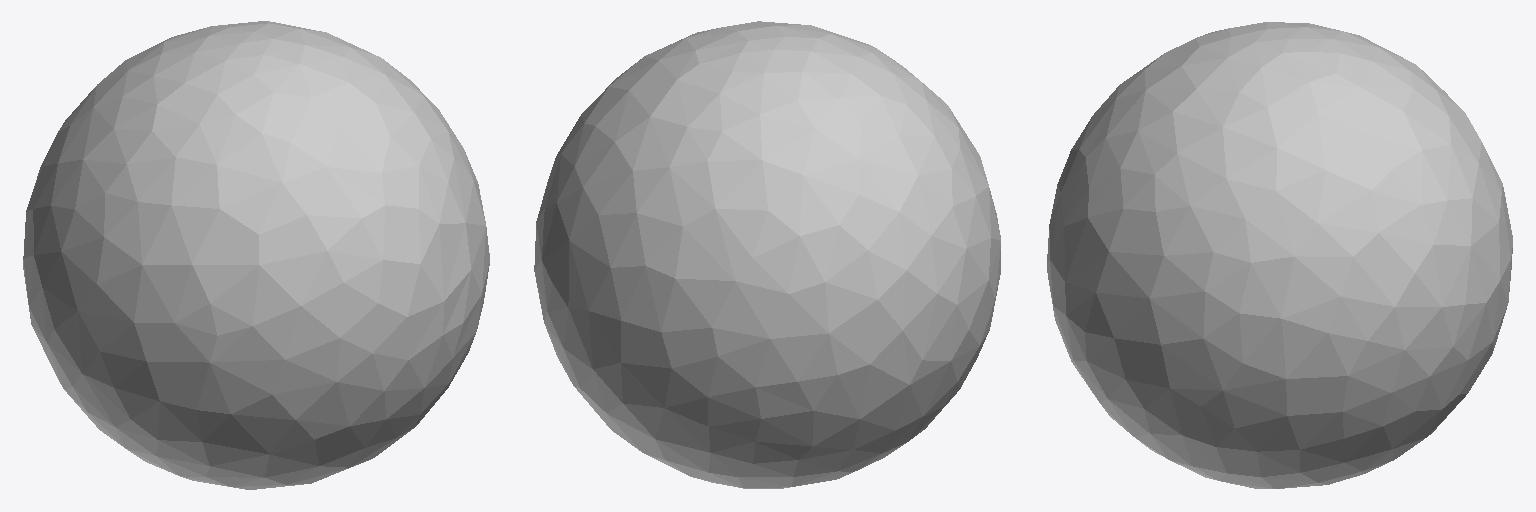
The model's file is Jupiter.obj.
The picture shows the model from 3 angles: view 1: azimuth 30°, elevation 25°; view 2: azimuth 150°, elevation 25°; view 3: azimuth 270°, elevation 25°; orthographic projection.
Visible parts, largest first — view 1: Jupiter_Sphere.001; view 2: Jupiter_Sphere.001; view 3: Jupiter_Sphere.001.
Boxes of the visible parts, <box> form: Jupiter_Sphere.001: <box>23,21,489,489</box>; Jupiter_Sphere.001: <box>534,21,1000,488</box>; Jupiter_Sphere.001: <box>1047,22,1512,488</box>.
Bounding box in the file's own units: 1.99 × 2 × 1.99.